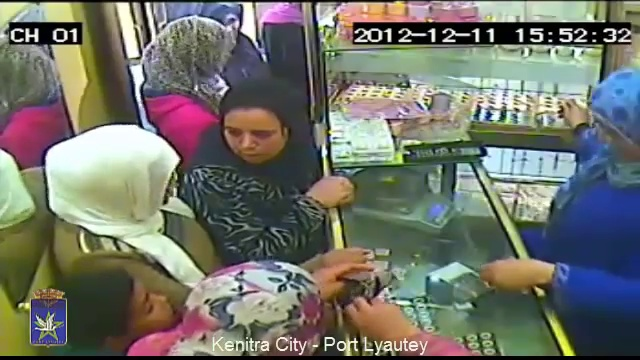face: (107, 283, 176, 334), (222, 105, 285, 160)
